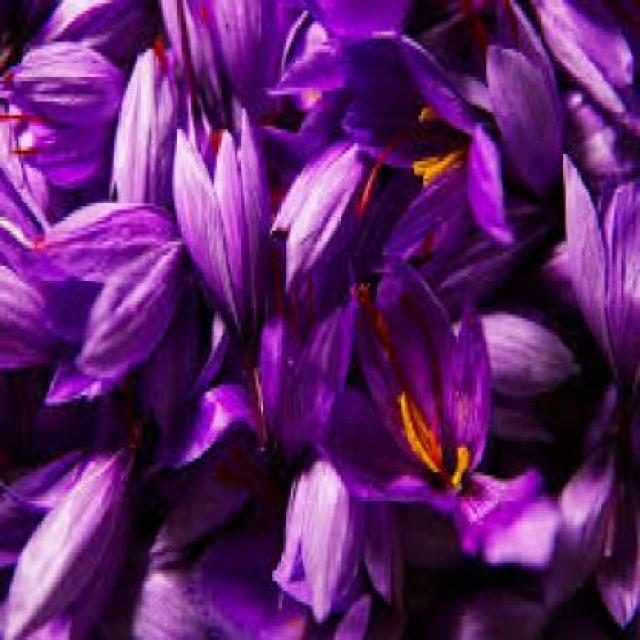Flower: (331, 261, 504, 534), (172, 117, 278, 372), (557, 138, 640, 412)
stigma: (360, 297, 473, 496)
